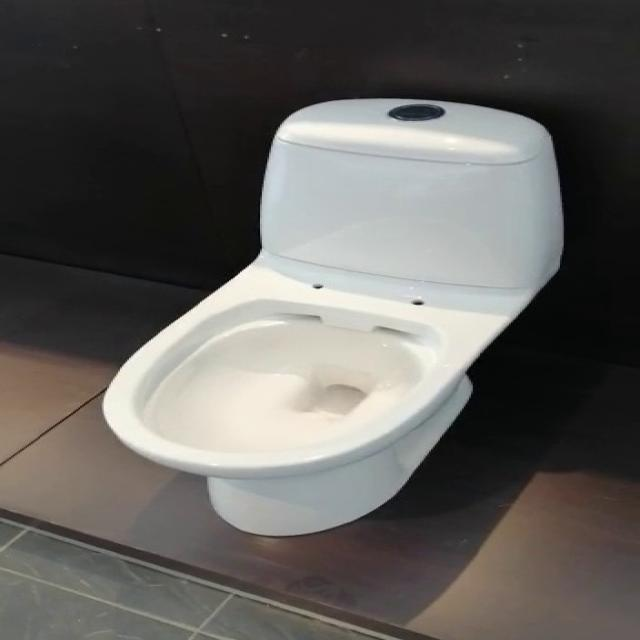toilet: (100, 96, 564, 537)
